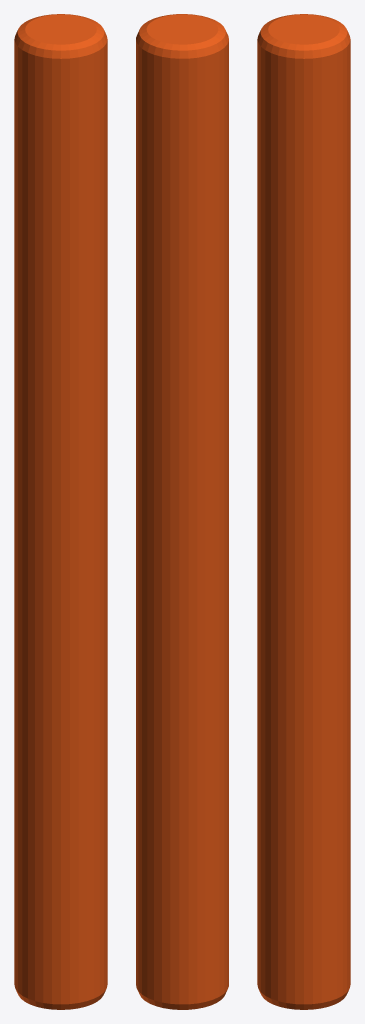
Rendered from SM_PipeStraight_01.fbx.
3 renders of one model, left to right at view 1: azimuth 90°, elevation 25°; view 2: azimuth 210°, elevation 25°; view 3: azimuth 270°, elevation 25°, orthographic.
Parts seen in each view (by area): view 1: SM_PipeStraight; view 2: SM_PipeStraight; view 3: SM_PipeStraight.
Boxes of the visible parts, box(x1,y1,x2,y2) form: SM_PipeStraight: box(14, 14, 107, 1009); SM_PipeStraight: box(136, 14, 228, 1009); SM_PipeStraight: box(257, 14, 350, 1009).
Bounding box in the file's own units: 35 × 400 × 35.
